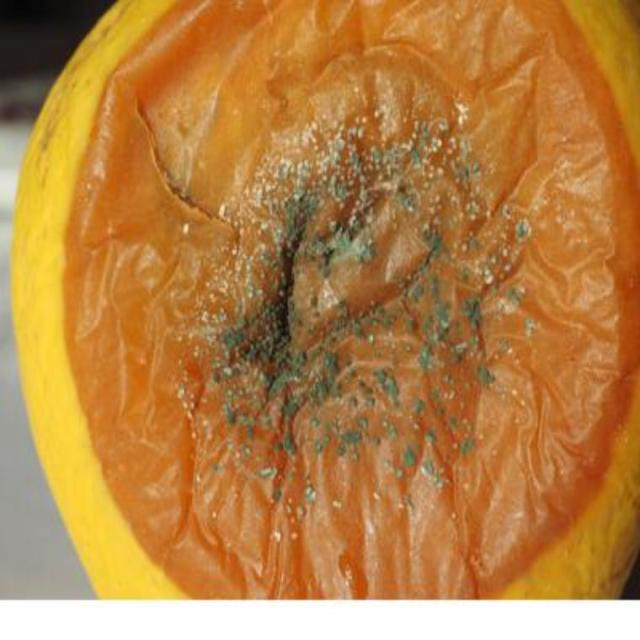Rotten Apple: (8, 20, 636, 588)
